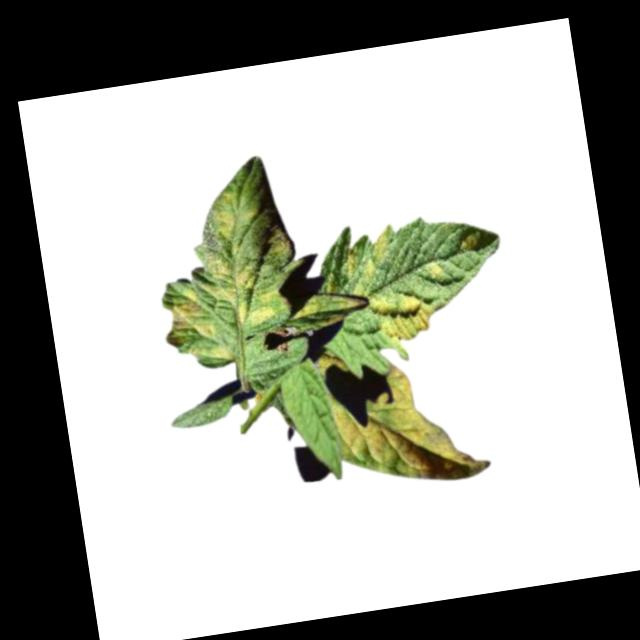Leaf_Mold: (328, 353, 493, 498), (201, 242, 294, 334), (159, 283, 232, 369), (365, 285, 435, 351), (211, 186, 262, 243), (357, 226, 397, 275), (457, 234, 478, 255)
